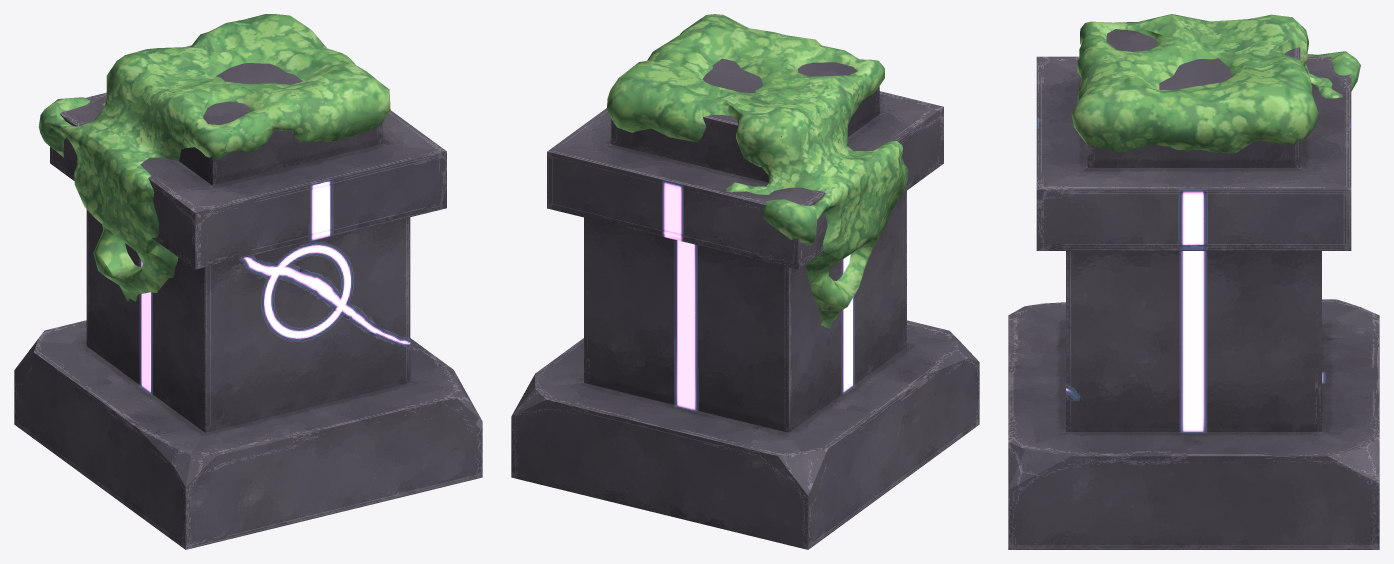
The model's file is Rune_2.fbx.
The picture shows the model from 3 angles, left to right: view 1: azimuth 30°, elevation 25°; view 2: azimuth 150°, elevation 25°; view 3: azimuth 270°, elevation 25°; orthographic projection. The views are drawn at different scales.
Visible parts, largest first — view 1: rune 2 low, rune 2 moss low; view 2: rune 2 low, rune 2 moss low; view 3: rune 2 low, rune 2 moss low.
Part boxes in pixels (box(x1,y1,x2,y2)): rune 2 low: box(14, 45, 482, 549); rune 2 moss low: box(38, 14, 390, 301); rune 2 low: box(511, 58, 979, 549); rune 2 moss low: box(606, 14, 908, 328); rune 2 low: box(1008, 29, 1379, 549); rune 2 moss low: box(1071, 14, 1360, 153).
Bounding box in the file's own units: 41.84 × 52.37 × 41.84.
2 materials, 2 textured.
